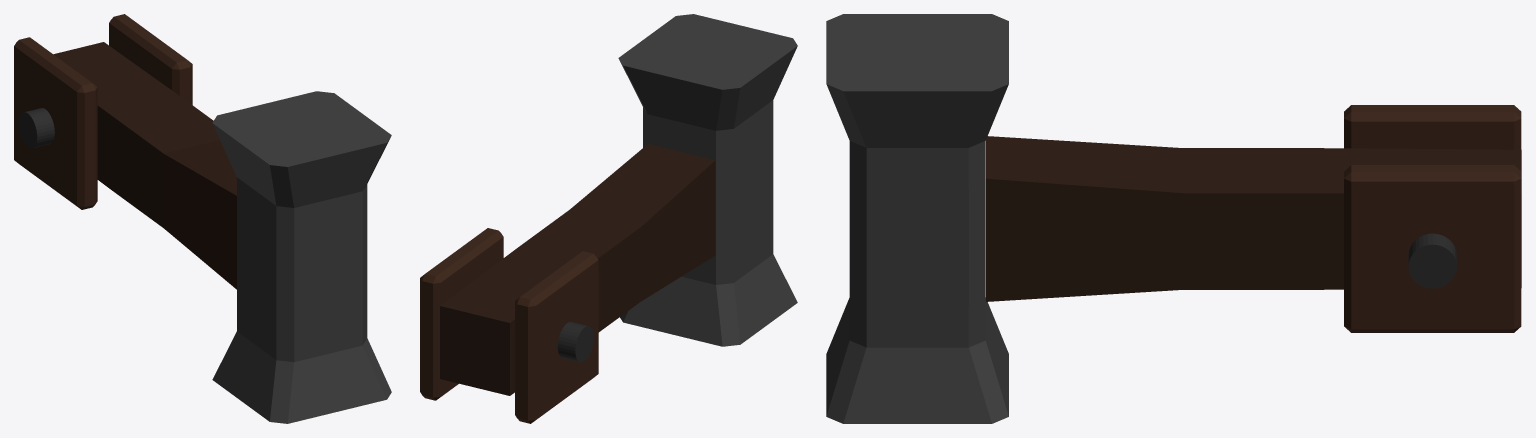
File: Hammer.glb
3 renders of one model, left to right at view 1: azimuth 30°, elevation 25°; view 2: azimuth 150°, elevation 25°; view 3: azimuth 270°, elevation 25°, orthographic. The views are drawn at different scales.
Parts seen in each view (by area): view 1: hammer, base; view 2: hammer, base; view 3: hammer, base.
Part boxes in pixels (x1=…): hammer: x1=18, y1=42, x2=391, y2=423; base: x1=14, y1=14, x2=192, y2=209; hammer: x1=440, y1=14, x2=797, y2=395; base: x1=420, y1=228, x2=598, y2=423; hammer: x1=826, y1=14, x2=1521, y2=423; base: x1=1344, y1=105, x2=1521, y2=332.
Size of the model in its own units: 2.54 by 4.14 by 7.83.
Materials: 1 (1 with a texture image).
